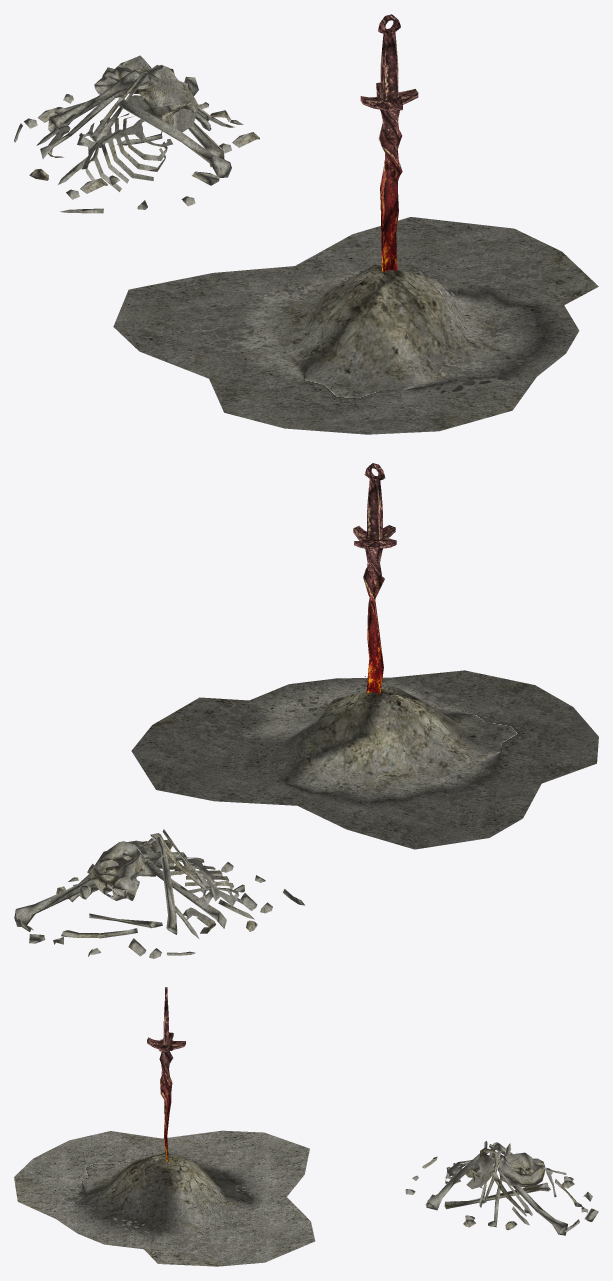
Rendered from Bonfire.fbx.
The picture shows the model from 3 angles, top to bottom: view 1: azimuth 30°, elevation 25°; view 2: azimuth 150°, elevation 25°; view 3: azimuth 270°, elevation 25°; orthographic projection. The views are drawn at different scales.
Parts seen in each view (by area): view 1: mesh3, mesh1, mesh4, mesh0, mesh2; view 2: mesh3, mesh1, mesh4, mesh0, mesh2; view 3: mesh3, mesh1, mesh4, mesh2, mesh0.
Part boxes in pixels (box(x1,y1,x2,y2)): mesh3: box(113, 217, 598, 434); mesh1: box(276, 264, 467, 386); mesh4: box(14, 55, 259, 213); mesh0: box(360, 14, 418, 272); mesh2: box(174, 251, 570, 404); mesh3: box(131, 670, 598, 849); mesh1: box(259, 686, 490, 787); mesh4: box(14, 829, 304, 958); mesh0: box(353, 463, 396, 694); mesh2: box(169, 676, 502, 816); mesh3: box(14, 1130, 315, 1266); mesh1: box(90, 1153, 247, 1230); mesh4: box(405, 1141, 598, 1235); mesh2: box(46, 1140, 274, 1260); mesh0: box(147, 987, 185, 1161).
Bounding box in the file's own units: 139 × 102 × 253.
